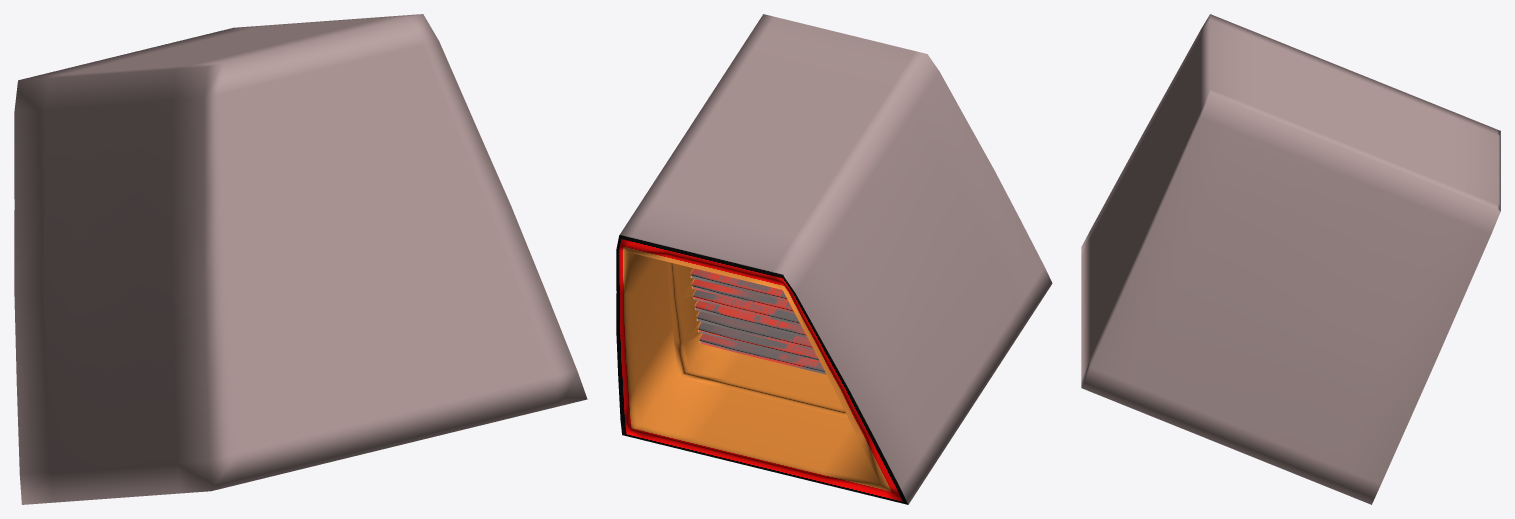
Rendered from nozzle.fbx.
3 renders of one model, left to right at view 1: azimuth 30°, elevation 25°; view 2: azimuth 150°, elevation 25°; view 3: azimuth 270°, elevation 25°, orthographic. The views are drawn at different scales.
Visible parts, largest first — view 1: pCube1; view 2: pCube1; view 3: pCube1.
Part boxes in pixels (left/top/right/bottom): pCube1: left=14, top=14, right=587, bottom=504; pCube1: left=616, top=14, right=1052, bottom=504; pCube1: left=1081, top=14, right=1500, bottom=504.
Size of the model in its own units: 1.05 by 1.32 by 1.32.
1 material, 1 textured.
